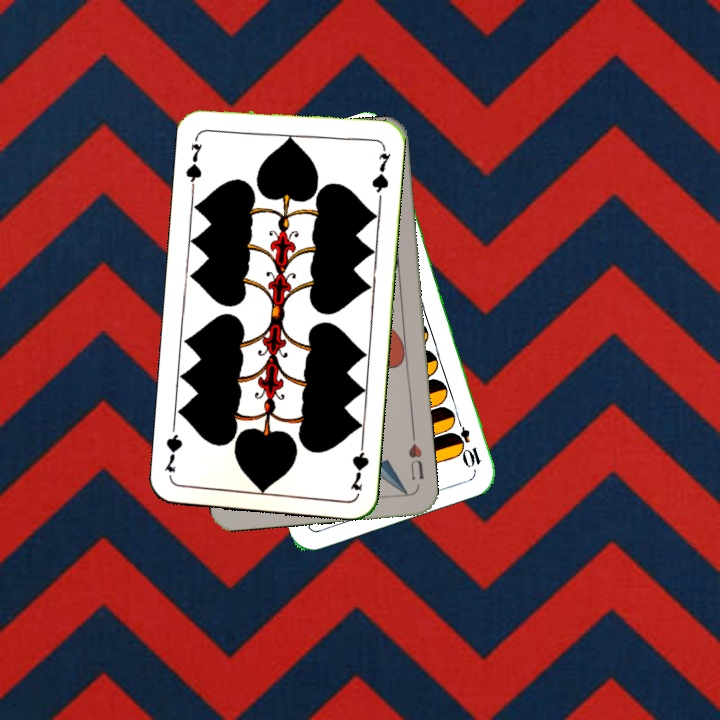E10: (450, 412, 484, 470)
G7: (346, 434, 371, 493), (181, 131, 205, 190)
HU: (404, 430, 426, 482)
